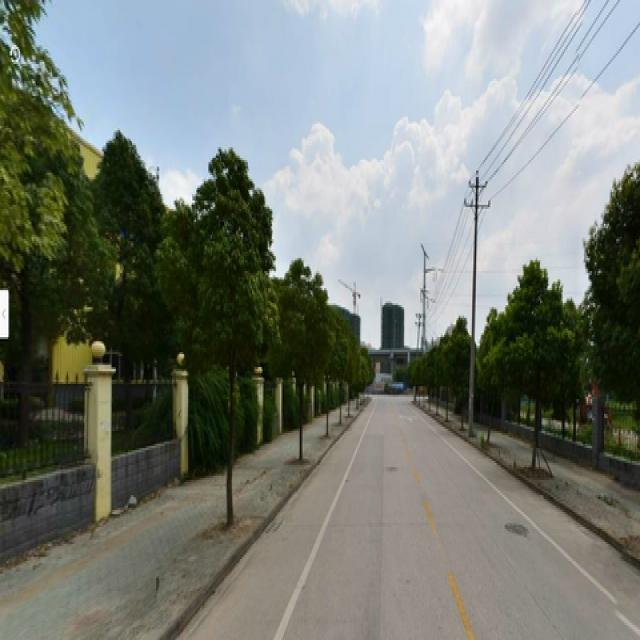cinn: (188, 179, 247, 504), (512, 260, 559, 467), (281, 260, 316, 459)
